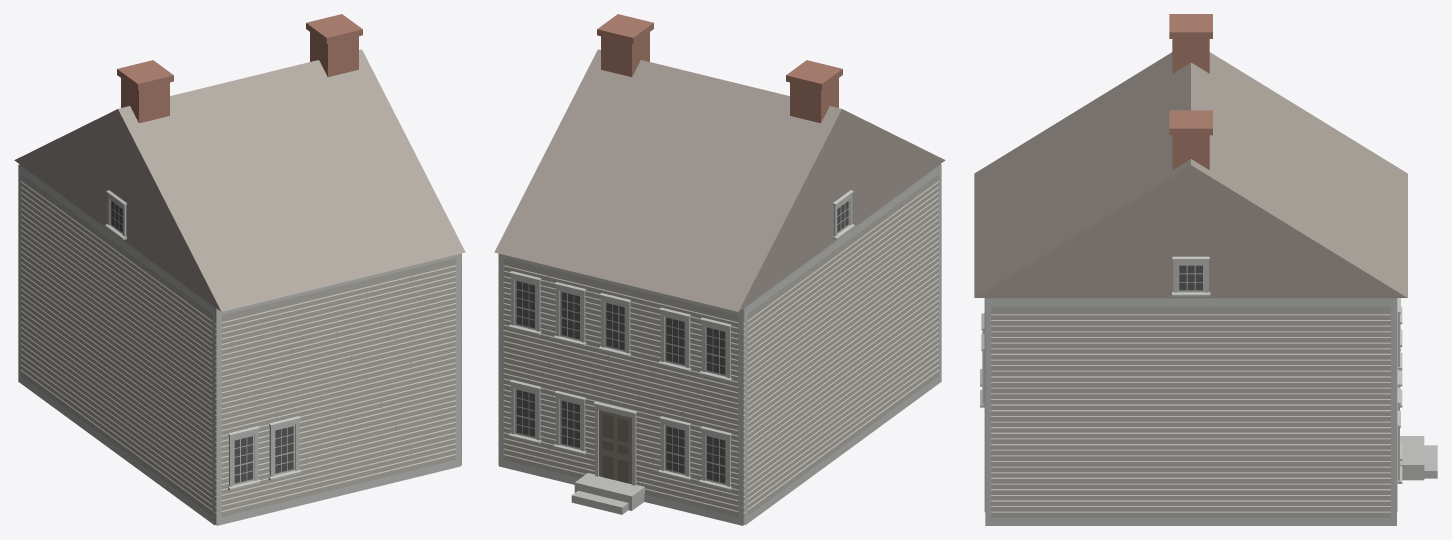
Rendered from recon_1835_blk_washington_lasalle_d7_05__inferred_1835.glb.
3 views of the same model, side by side, from view 1: azimuth 30°, elevation 25°; view 2: azimuth 150°, elevation 25°; view 3: azimuth 270°, elevation 25° (orthographic). The views are drawn at different scales.
Parts seen in each view (by area): view 1: recon_1835_blk_washington_lasalle_d7_05__inferred_1835; view 2: recon_1835_blk_washington_lasalle_d7_05__inferred_1835; view 3: recon_1835_blk_washington_lasalle_d7_05__inferred_1835.
Boxes of the visible parts, x1,y1,x2,y2 form: recon_1835_blk_washington_lasalle_d7_05__inferred_1835: (14,14,465,525); recon_1835_blk_washington_lasalle_d7_05__inferred_1835: (494,14,945,525); recon_1835_blk_washington_lasalle_d7_05__inferred_1835: (974,14,1437,525).
Bounding box in the file's own units: 6.84 × 9.73 × 10.43.
